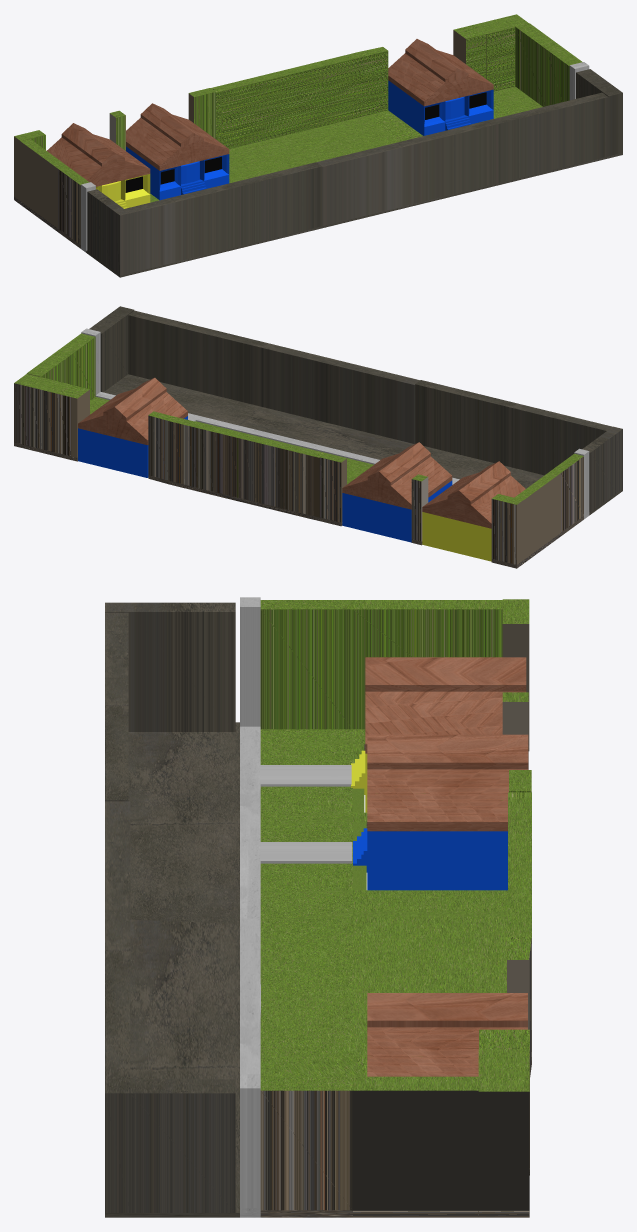
File: Map Basic 1.fbx
3 views of the same model, one above another, from view 1: azimuth 30°, elevation 25°; view 2: azimuth 150°, elevation 25°; view 3: azimuth 270°, elevation 25° (orthographic). The views are drawn at different scales.
Visible parts, largest first — view 1: Cube.003, Cube, Cube.004, Cube.002, Cube.001; view 2: Cube.003, Cube, Cube.002, Cube.004, Cube.001; view 3: Cube.003, Cube, Cube.002, Cube.001, Cube.004.
Boxes of the visible parts, bbox=[...] form: Cube.003: bbox=[211, 14, 622, 227]; Cube: bbox=[14, 88, 325, 277]; Cube.004: bbox=[388, 39, 493, 135]; Cube.002: bbox=[126, 103, 229, 200]; Cube.001: bbox=[47, 123, 150, 208]; Cube.003: bbox=[14, 306, 419, 519]; Cube: bbox=[314, 380, 622, 568]; Cube.002: bbox=[342, 442, 452, 542]; Cube.004: bbox=[78, 377, 187, 477]; Cube.001: bbox=[422, 461, 525, 561]; Cube.003: bbox=[105, 792, 531, 1217]; Cube: bbox=[105, 597, 531, 923]; Cube.002: bbox=[353, 734, 528, 890]; Cube.001: bbox=[351, 657, 526, 812]; Cube.004: bbox=[367, 993, 527, 1076].
Size of the model in its own units: 8238 by 1012 by 3029.
Materials: 12 (9 with a texture image).
